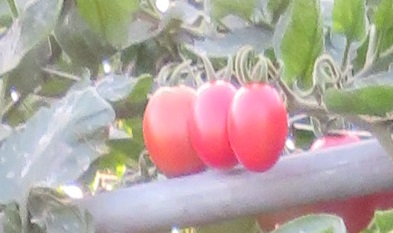red: (226, 80, 292, 171), (142, 81, 196, 179), (187, 81, 233, 174)
